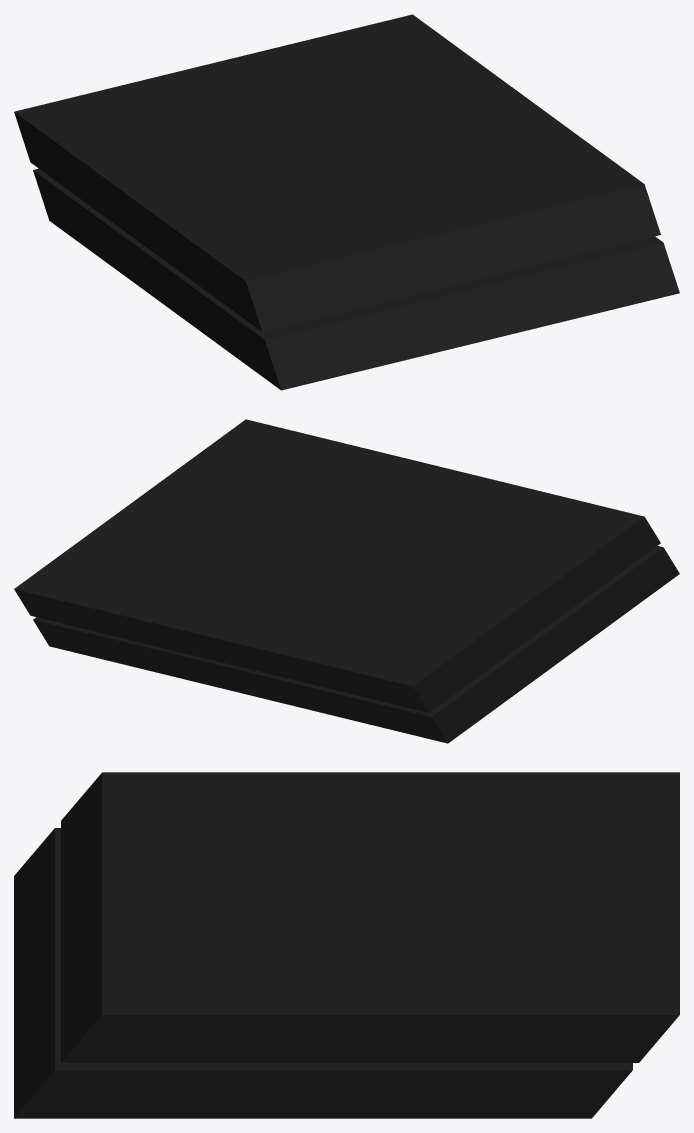
The model's file is Itr_Obj_Console_02.FBX.
The picture shows the model from 3 angles, top to bottom: view 1: azimuth 30°, elevation 25°; view 2: azimuth 150°, elevation 25°; view 3: azimuth 270°, elevation 25°; orthographic projection. The views are drawn at different scales.
Visible parts, largest first — view 1: Itr_Obj_Console_02; view 2: Itr_Obj_Console_02; view 3: Itr_Obj_Console_02.
Part boxes in pixels (box(x1,y1,x2,y2)): Itr_Obj_Console_02: box(14, 14, 679, 390); Itr_Obj_Console_02: box(14, 419, 679, 743); Itr_Obj_Console_02: box(14, 772, 679, 1118).
Size of the model in its own units: 11.52 by 2.3 by 13.37.
